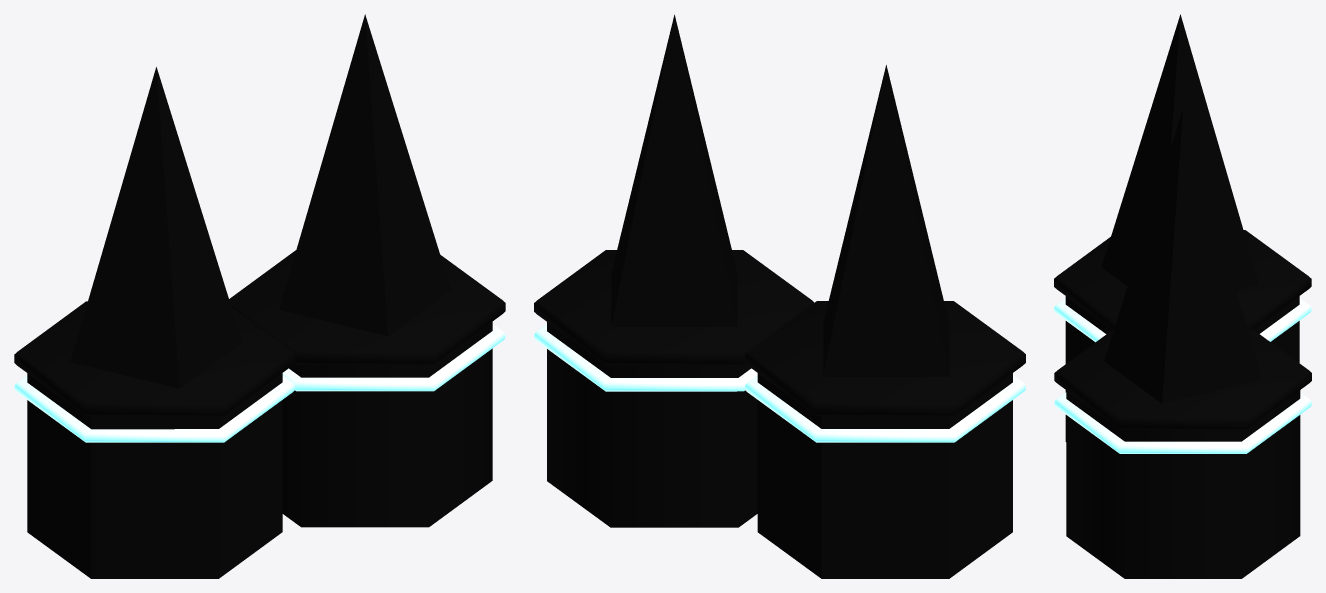
File: trap_pik.fbx
3 renders of one model, left to right at view 1: azimuth 30°, elevation 25°; view 2: azimuth 150°, elevation 25°; view 3: azimuth 270°, elevation 25°, orthographic. The views are drawn at different scales.
Visible parts, largest first — view 1: Body_2, Body, Pyramid_2, Pyramid, Top, Top_2, Glow, Glow_2; view 2: Body_2, Body, Pyramid, Pyramid_2, Top, Top_2, Glow, Glow_2; view 3: Body, Pyramid, Pyramid_2, Top_2, Top, Glow_2, Body_2, Glow.
Boxes of the visible parts, left/top/right/bottom form: Body_2: left=27, top=373, right=282, bottom=578; Body: left=282, top=321, right=492, bottom=527; Pyramid_2: left=70, top=67, right=242, bottom=388; Pyramid: left=279, top=14, right=450, bottom=336; Top: left=14, top=301, right=295, bottom=416; Top_2: left=229, top=250, right=505, bottom=364; Glow: left=14, top=376, right=295, bottom=442; Glow_2: left=282, top=324, right=505, bottom=391; Body_2: left=757, top=373, right=1012, bottom=578; Body: left=547, top=322, right=757, bottom=527; Pyramid: left=611, top=14, right=737, bottom=326; Pyramid_2: left=823, top=65, right=949, bottom=376; Top: left=745, top=301, right=1025, bottom=415; Top_2: left=534, top=250, right=814, bottom=364; Glow: left=745, top=375, right=1025, bottom=442; Glow_2: left=534, top=324, right=757, bottom=391; Body: left=1066, top=390, right=1300, bottom=578; Pyramid: left=1104, top=108, right=1261, bottom=403; Pyramid_2: left=1101, top=14, right=1259, bottom=290; Top_2: left=1054, top=325, right=1311, bottom=429; Top: left=1054, top=230, right=1311, bottom=329; Glow_2: left=1054, top=392, right=1311, bottom=453; Body_2: left=1065, top=296, right=1299, bottom=441; Glow: left=1054, top=298, right=1311, bottom=342.
Bounding box in the file's own units: 76.2 × 80.7 × 44.08.
